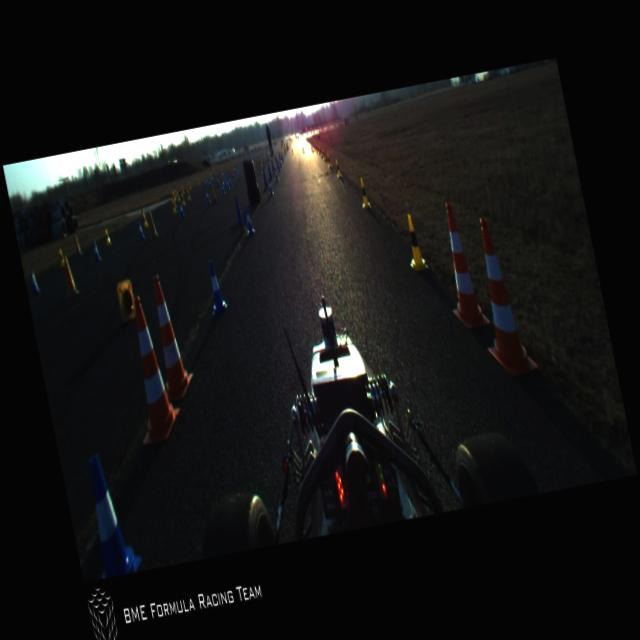blue_cone: (78, 446, 144, 578), (202, 256, 230, 318), (242, 205, 256, 237), (89, 238, 102, 264), (135, 218, 146, 242), (266, 176, 275, 196), (177, 200, 186, 220), (202, 186, 212, 204), (218, 178, 226, 196), (273, 166, 280, 183), (196, 175, 202, 188), (228, 175, 234, 188), (276, 160, 282, 172), (226, 178, 230, 190)
large_orange_cone: (464, 212, 540, 380), (115, 291, 186, 444), (432, 198, 491, 331), (144, 271, 198, 402)
unknown_cone: (58, 254, 82, 298), (232, 196, 246, 233), (26, 265, 42, 295), (145, 208, 160, 237), (72, 232, 84, 255), (260, 168, 270, 190), (208, 182, 218, 203), (266, 163, 274, 183), (310, 144, 314, 154), (290, 147, 294, 156), (302, 146, 306, 154)
yellow_cone: (400, 212, 429, 272), (114, 278, 138, 322), (356, 177, 372, 210), (103, 225, 113, 248), (334, 158, 344, 178), (170, 196, 178, 214), (58, 248, 66, 266), (320, 146, 328, 162), (180, 192, 187, 208), (142, 212, 149, 228), (185, 188, 192, 202), (327, 153, 332, 169), (175, 191, 181, 204), (319, 146, 323, 156)
